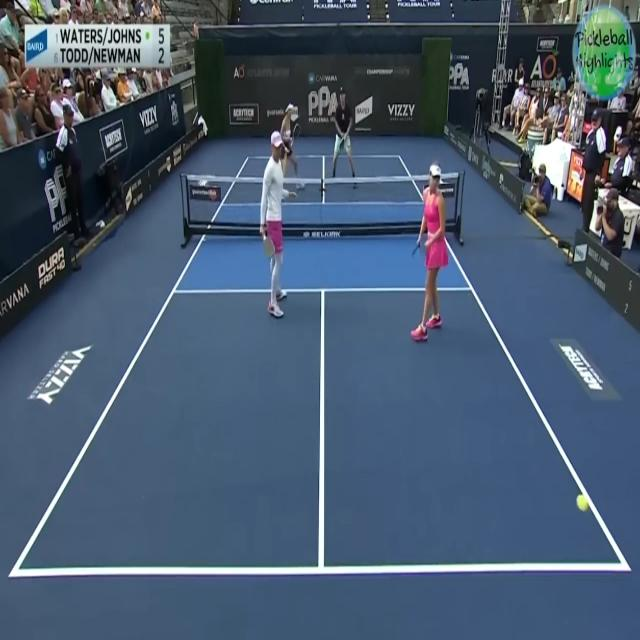Pickleball: (576, 489, 590, 515)
